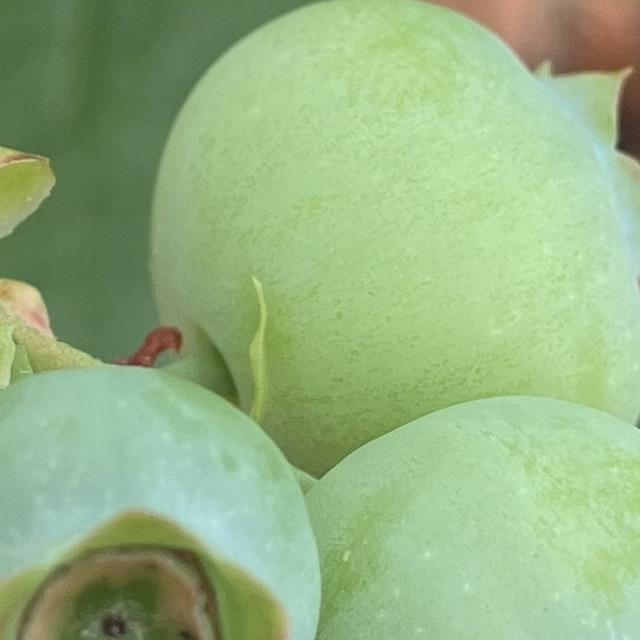Blueberries: (139, 0, 640, 452), (224, 374, 640, 640)
